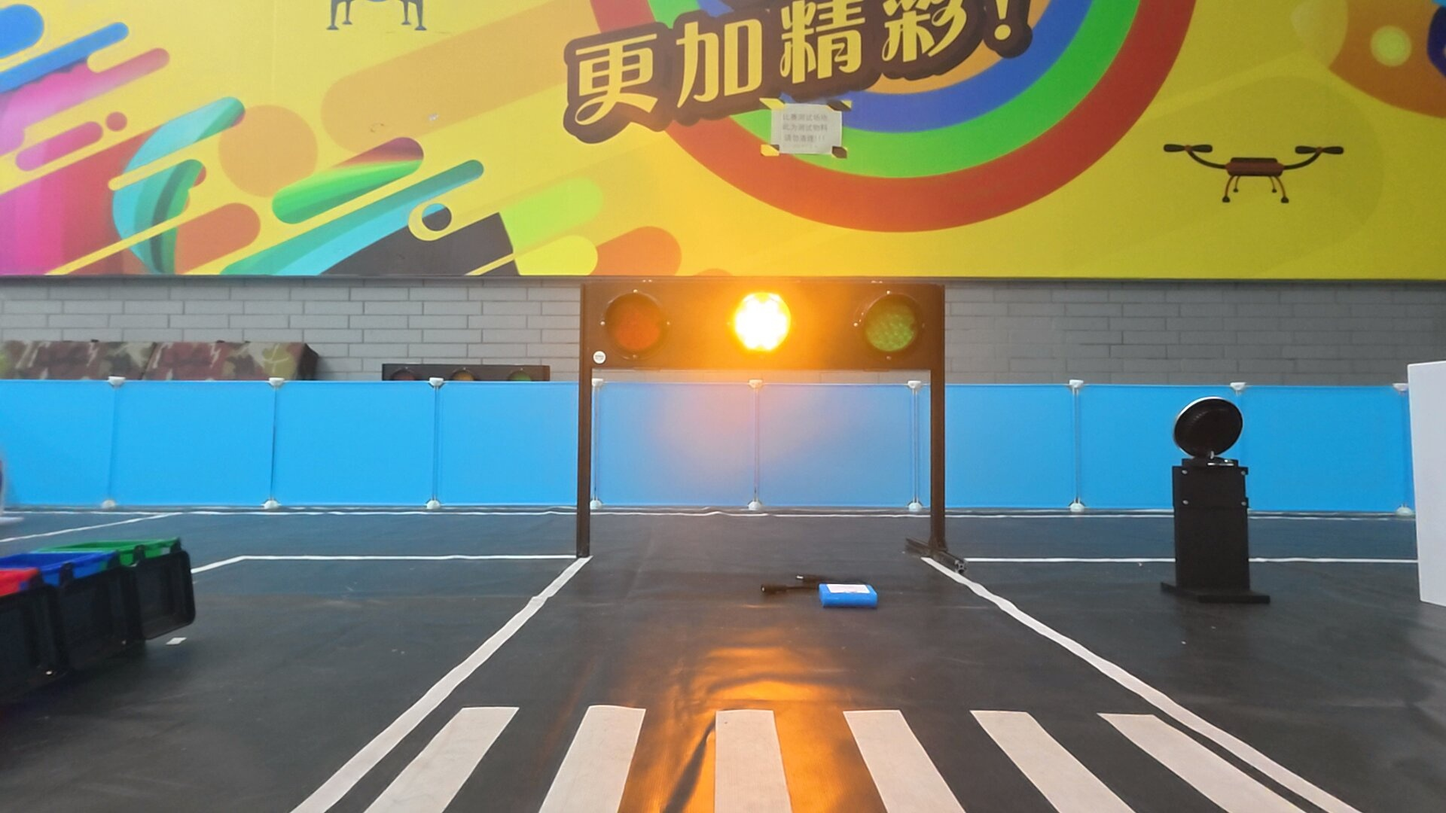stop: (729, 288, 798, 355)
